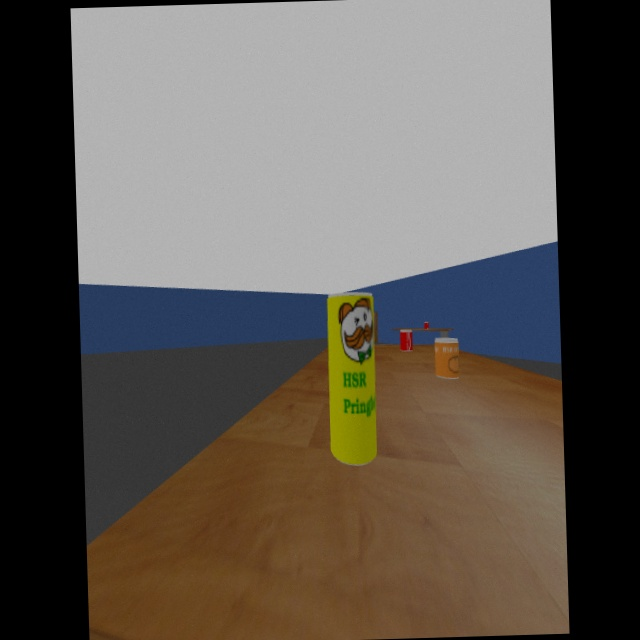chipsdose_gelb: (327, 292, 378, 466)
